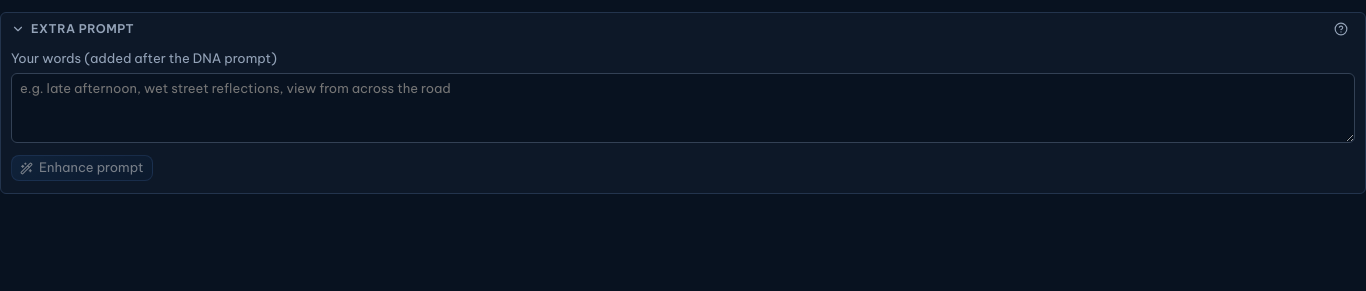
ExtraPromptSection › discards an old suggestion when the user changes their request
Replace the text in the text box with test id "extra-prompt" with "Japandi living room in beige": (683, 108) [11,72,1355,143]
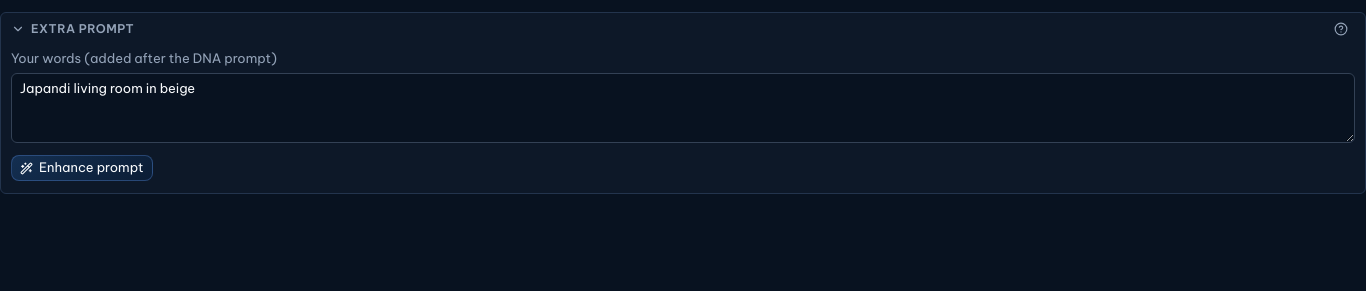
Click the button with test id "enhance-button": (82, 168) [11,155,152,181]
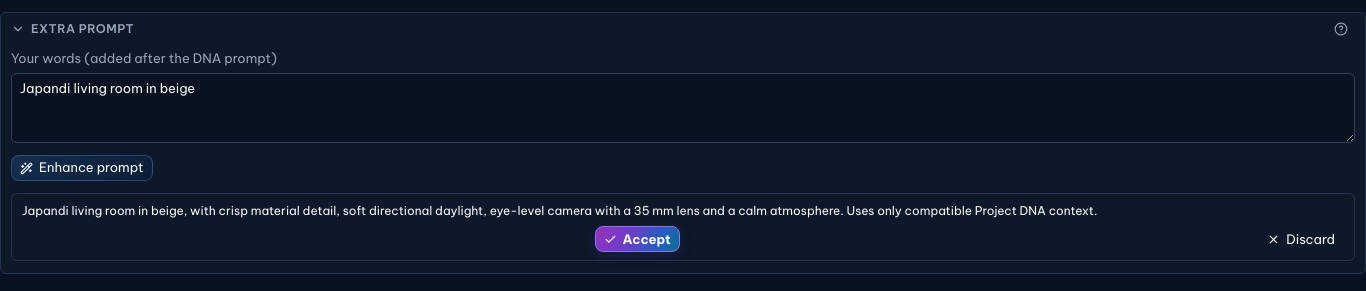
Result: the element with test id "enhance-preview" is shown at [11,193,1355,261]
Replace the text in the text box with test id "extra-prompt" with "phòng khách biệt thự hiện đại, đen trắng chủ đạo": (683, 108) [11,72,1355,143]
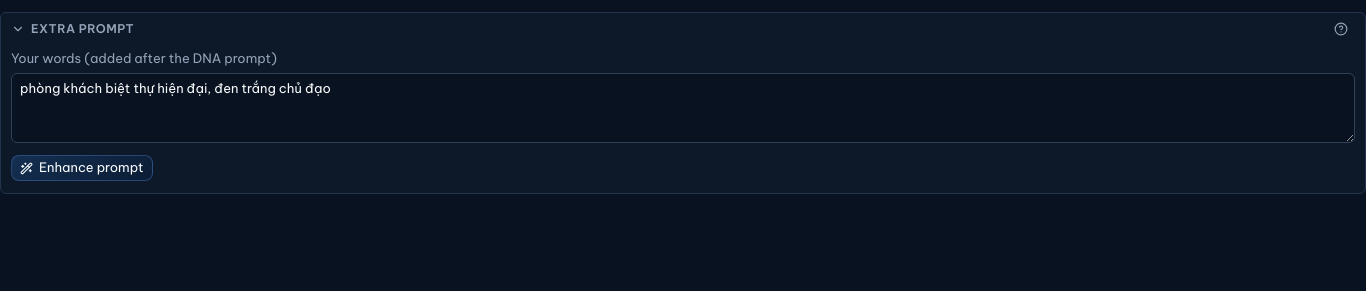
Result: the element with test id "enhance-preview" is gone
